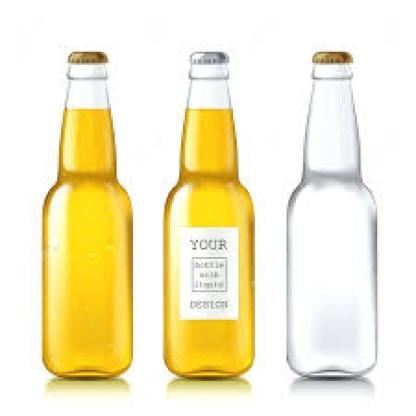trash: (164, 52, 253, 377), (287, 51, 376, 376), (43, 51, 131, 377)
